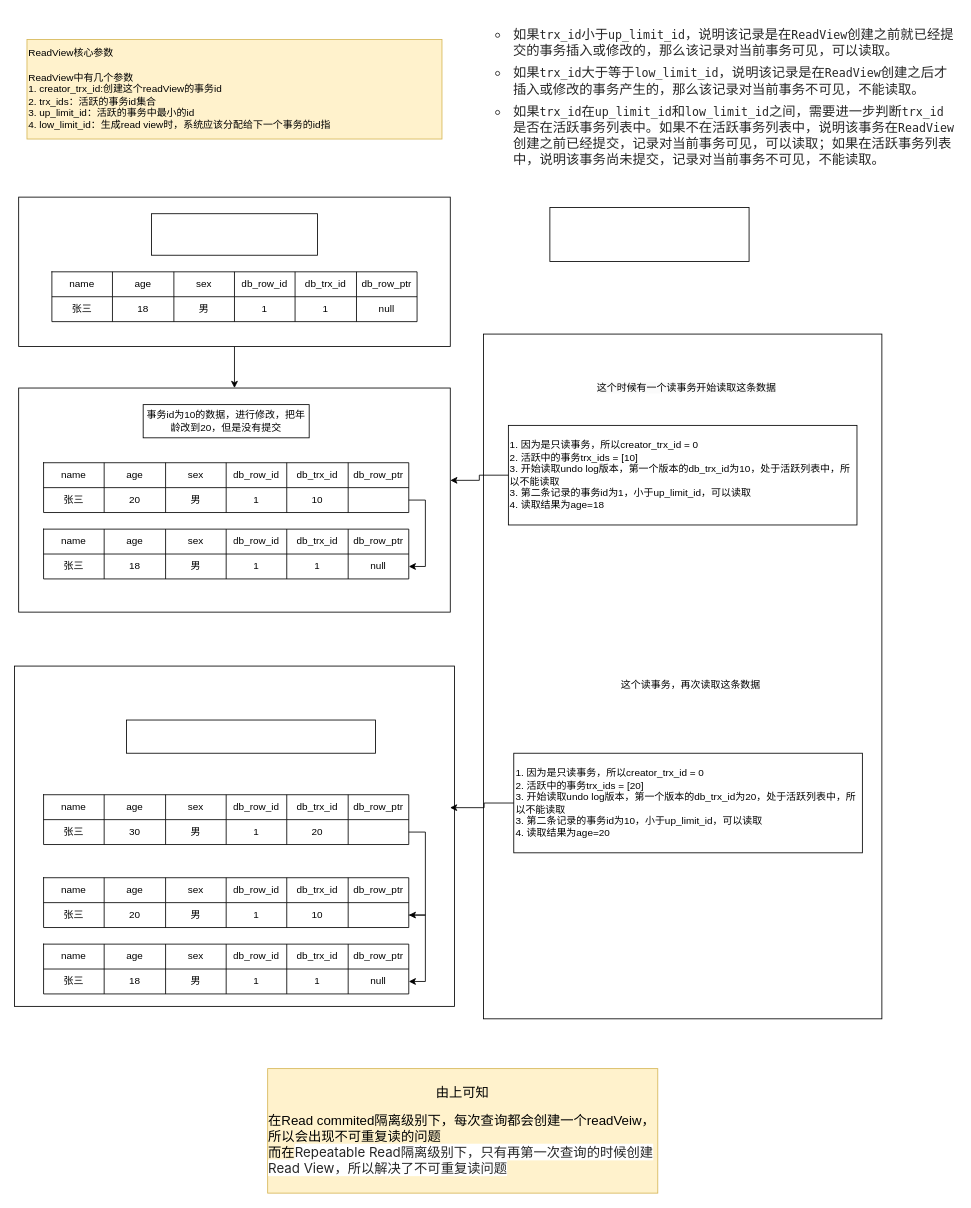
Image size: 971x1208. Some labels were removed from this diagram. The shapes that lost their labels are listed below. From the top down, each one's centre as x and y in pixels, then its label:
(x=234, y=234): 首先数据库中已经存在一条数据
(x=649, y=234): Read Commited隔离级别下
(x=251, y=736): 事务id为10的数据进行了提交，另一个事务id为20的再次修改了数据，但是没有提交
